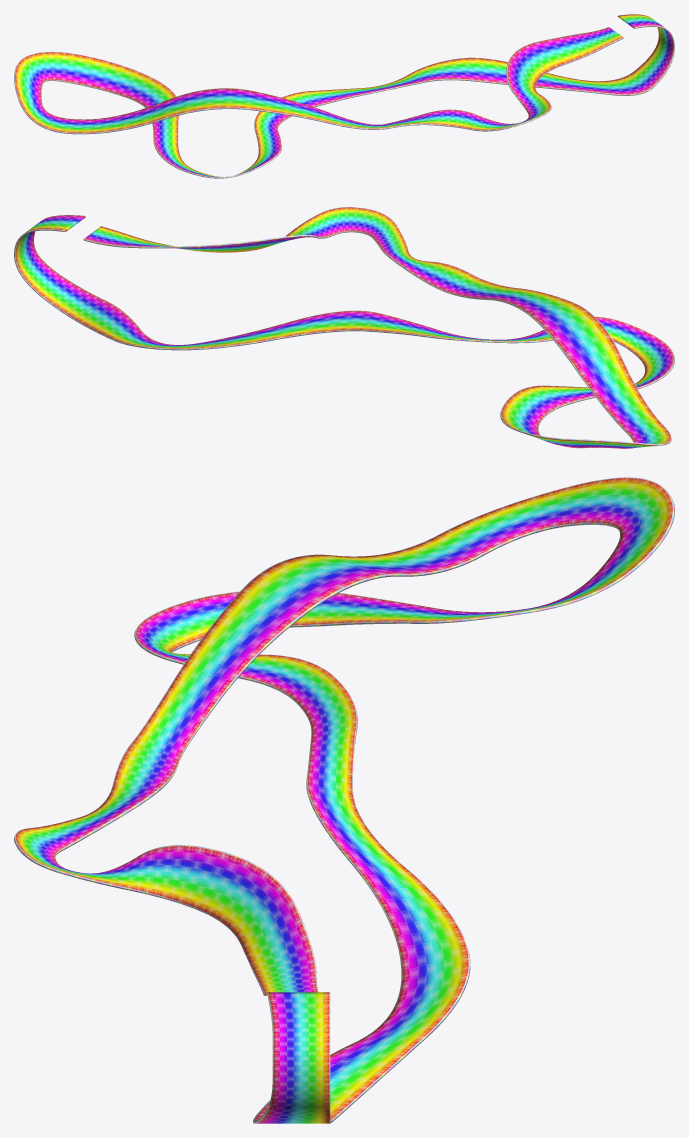
Rendered from minimap.fbx.
3 views of the same model, one above another, from view 1: azimuth 30°, elevation 25°; view 2: azimuth 150°, elevation 25°; view 3: azimuth 270°, elevation 25° (orthographic). The views are drawn at different scales.
Visible parts, largest first — view 1: RainbowRoad; view 2: RainbowRoad; view 3: RainbowRoad.
Part boxes in pixels (x1=…): RainbowRoad: x1=14, y1=14, x2=674, y2=178; RainbowRoad: x1=14, y1=207, x2=674, y2=448; RainbowRoad: x1=14, y1=477, x2=674, y2=1123.
Bounding box in the file's own units: 123640 × 17842 × 63825.
